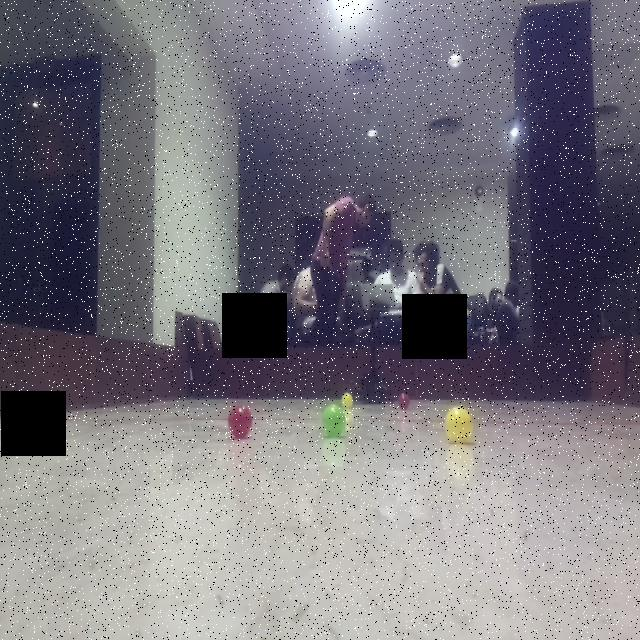ball: (225, 400, 258, 442), (443, 402, 474, 443), (321, 402, 349, 439), (394, 388, 414, 411), (337, 388, 358, 408)
